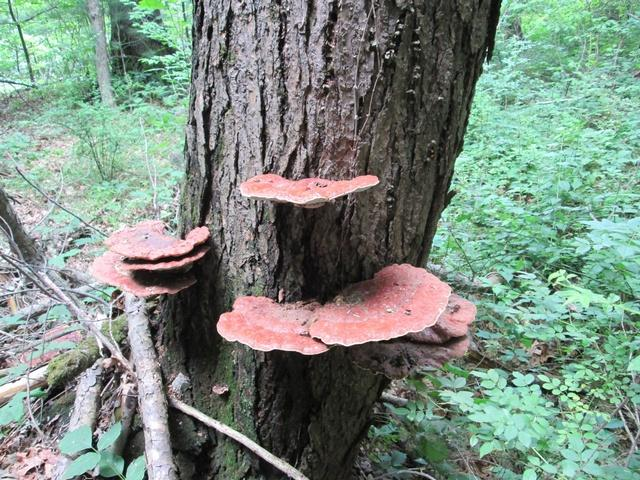poisonous_mushroom: (223, 252, 498, 399), (93, 204, 204, 301), (237, 170, 380, 209)
